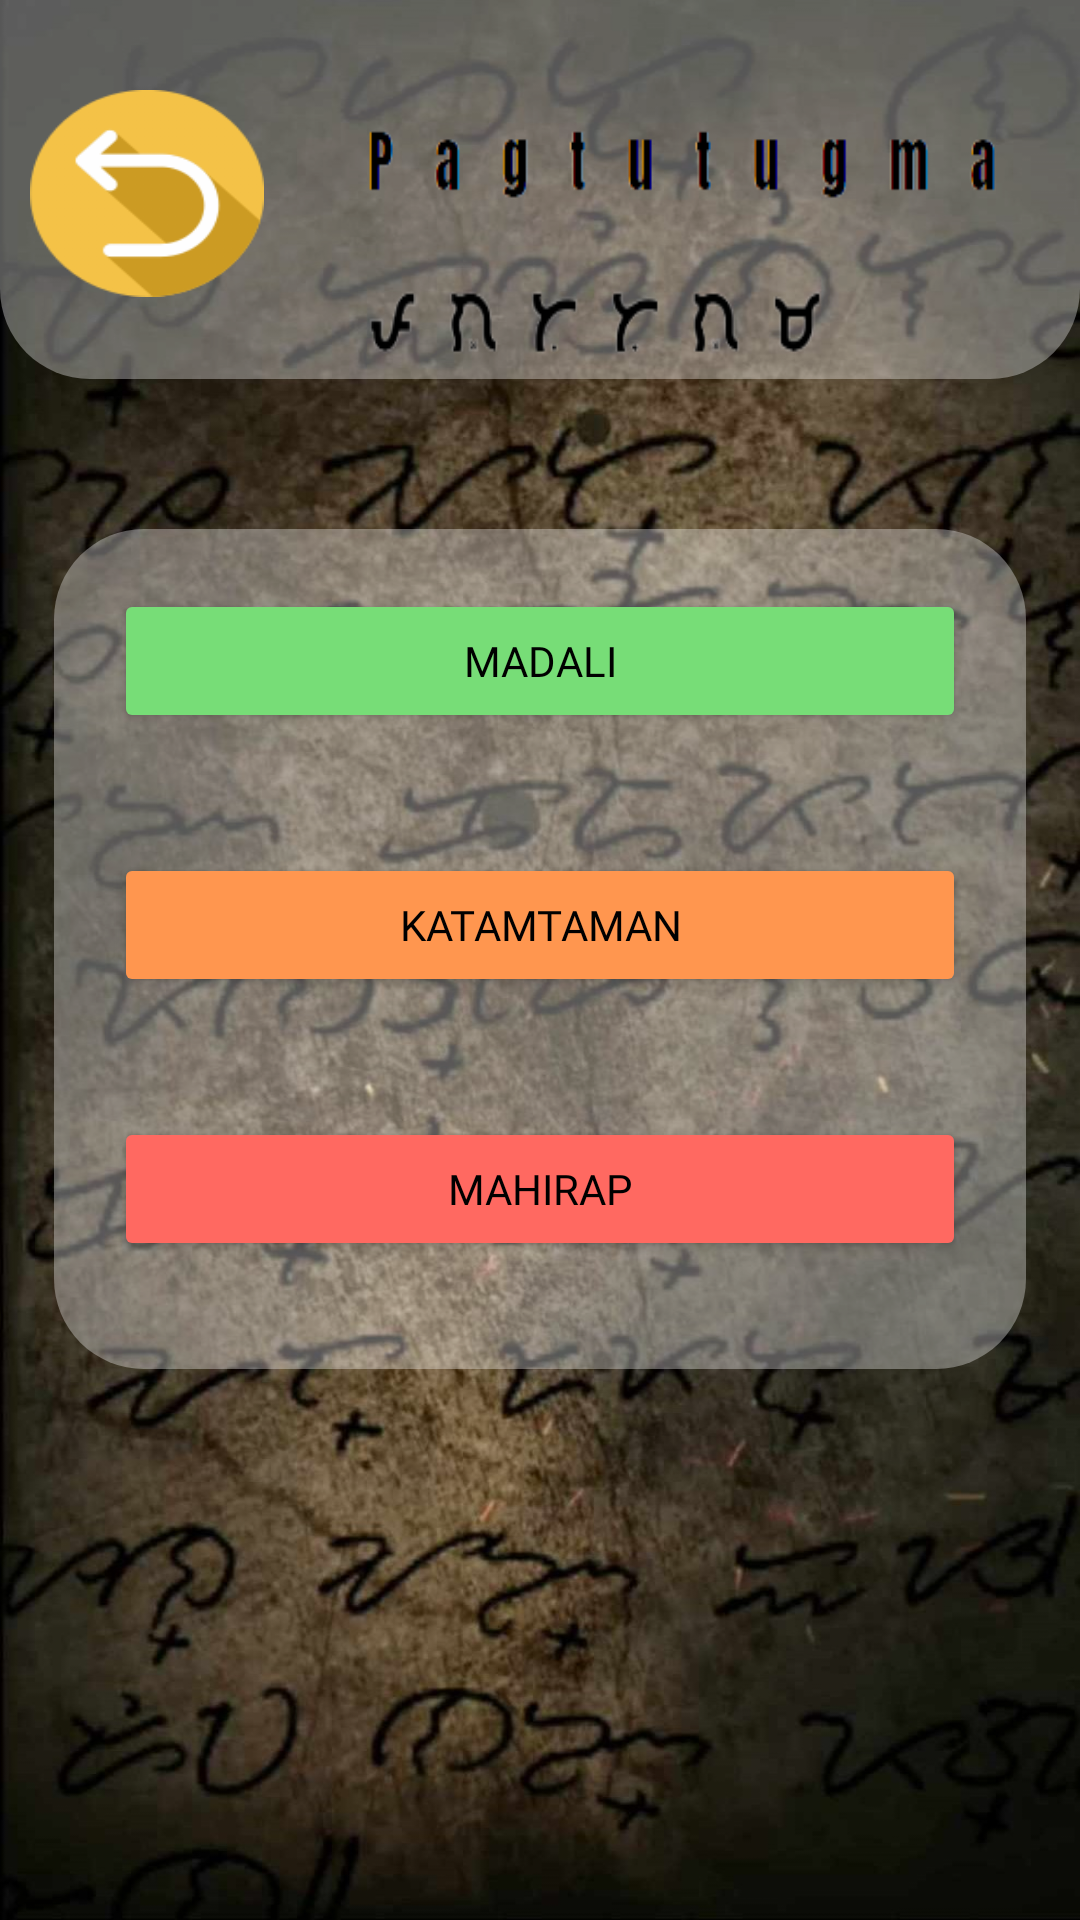

Screen size 1080px×1920px. Icon name, then its center in pixels as point (x, y):
undo: point (147, 193)
